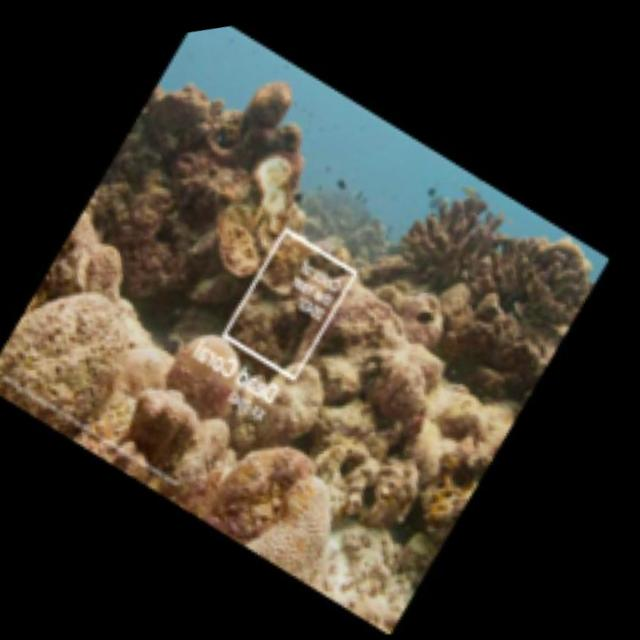Dead Coral: (372, 146, 634, 430), (134, 40, 355, 248), (193, 407, 391, 609), (0, 258, 174, 461)
